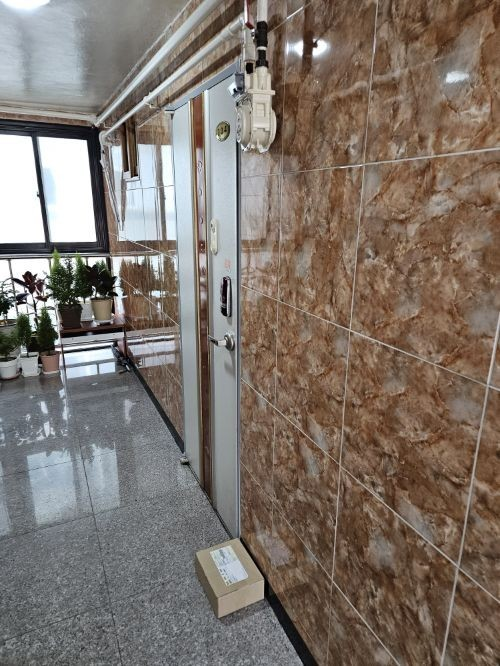undamaged: (196, 538, 266, 618)
